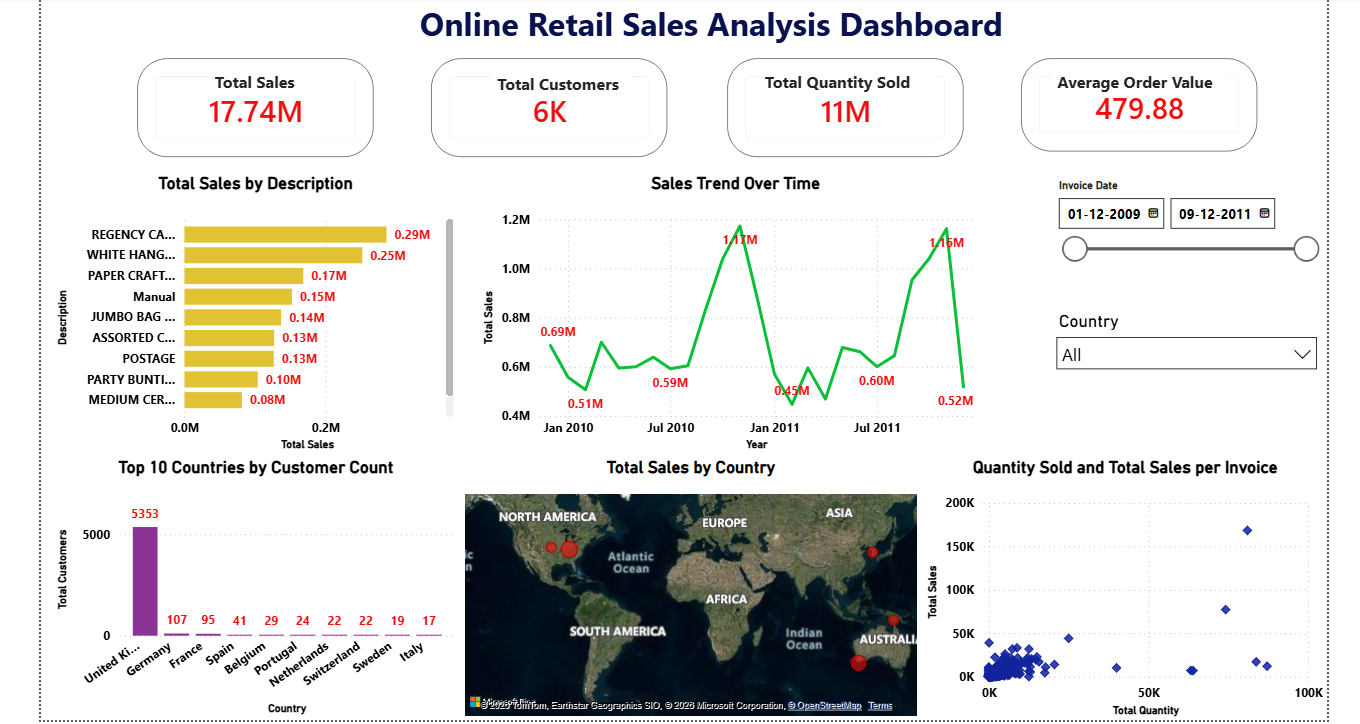

The dashboard page shown, as its layout file describes it:
{"tool":"powerbi","page":{"name":"Page 1","canvas":[1280,720],"ordinal":0},"visuals":[{"type":"cardVisual","fields":{"Data":["online_retail_II.Avg order value"]},"box":[975.6,60.4,235,93],"z":0},{"type":"cardVisual","fields":{"Data":["online_retail_II.Total Customers"]},"box":[388.3,60.4,235,98],"z":1000},{"type":"cardVisual","fields":{"Data":["online_retail_II.Total Quantity"]},"box":[683.4,60.4,235,98],"z":2000},{"type":"cardVisual","title":"Total Sales","fields":{"Data":["online_retail_II.Total_Sales"]},"box":[96.1,60.4,235,98.8],"z":3000},{"type":"textbox","box":[371.9,0,624.7,58.9],"z":4000},{"type":"clusteredBarChart","title":"Total Sales by Description","fields":{"Category":["online_retail_II.Description"],"Y":["online_retail_II.Total_Sales"]},"box":[11,175.6,404.8,281.3],"z":5000},{"type":"lineChart","title":"Sales Trend Over Time","fields":{"Y":["online_retail_II.Total_Sales"],"Category":["online_retail_II.InvoiceDate.Variation.Date Hierarchy.Year","online_retail_II.InvoiceDate.Variation.Date Hierarchy.Month"]},"box":[435,175.6,511.8,281.3],"z":6000},{"type":"clusteredColumnChart","title":" Top 10 Countries by Customer Count","fields":{"Category":["online_retail_II.Country"],"Y":["online_retail_II.Total Customers"]},"box":[11,457.5,405.5,261.6],"z":7000},{"type":"scatterChart","title":"Quantity Sold and Total Sales per Invoice","fields":{"X":["online_retail_II.Total Quantity"],"Y":["online_retail_II.Total_Sales"],"Category":["online_retail_II.Invoice"]},"box":[876.7,457.5,404.1,263],"z":8000},{"type":"map","title":"Total Sales by Country","fields":{"Category":["online_retail_II.Country"],"Size":["online_retail_II.Total_Sales"]},"box":[416.4,457.5,460.3,263],"z":9000},{"type":"textbox","box":[167.4,68.6,142.7,31.6],"z":10000},{"type":"textbox","box":[448.7,70,137.5,31.9],"z":11000},{"type":"textbox","box":[714.9,68.6,172.9,31.6],"z":12000},{"type":"textbox","box":[1005.8,68.6,176.4,31.9],"z":13000},{"type":"slicer","fields":{"Values":["online_retail_II.InvoiceDate"]},"box":[1000.3,175.6,279.9,104],"z":14000},{"type":"slicer","fields":{"Values":["online_retail_II.Country"]},"box":[1000.3,307.4,279.9,104],"z":15000}]}

Visuals, with their boxes on the page's 1280x720 design canvas (x1, y1, x2, y2). These are canvas units, not pixel positions in the 1360x724 screenshot, which may show the page scaled, cropped or inside an application window:
cardVisual - online_retail_II.Avg order value: 976,60,1211,153
cardVisual - online_retail_II.Total Customers: 388,60,623,158
cardVisual - online_retail_II.Total Quantity: 683,60,918,158
"Total Sales" cardVisual: 96,60,331,159
textbox: 372,0,997,59
"Total Sales by Description" clusteredBarChart: 11,176,416,457
"Sales Trend Over Time" lineChart: 435,176,947,457
" Top 10 Countries by Customer Count" clusteredColumnChart: 11,458,416,719
"Quantity Sold and Total Sales per Invoice" scatterChart: 877,458,1281,720
"Total Sales by Country" map: 416,458,877,720
textbox: 167,69,310,100
textbox: 449,70,586,102
textbox: 715,69,888,100
textbox: 1006,69,1182,100
slicer - online_retail_II.InvoiceDate: 1000,176,1280,280
slicer - online_retail_II.Country: 1000,307,1280,411
